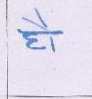au_matra: (36, 10, 62, 52)
